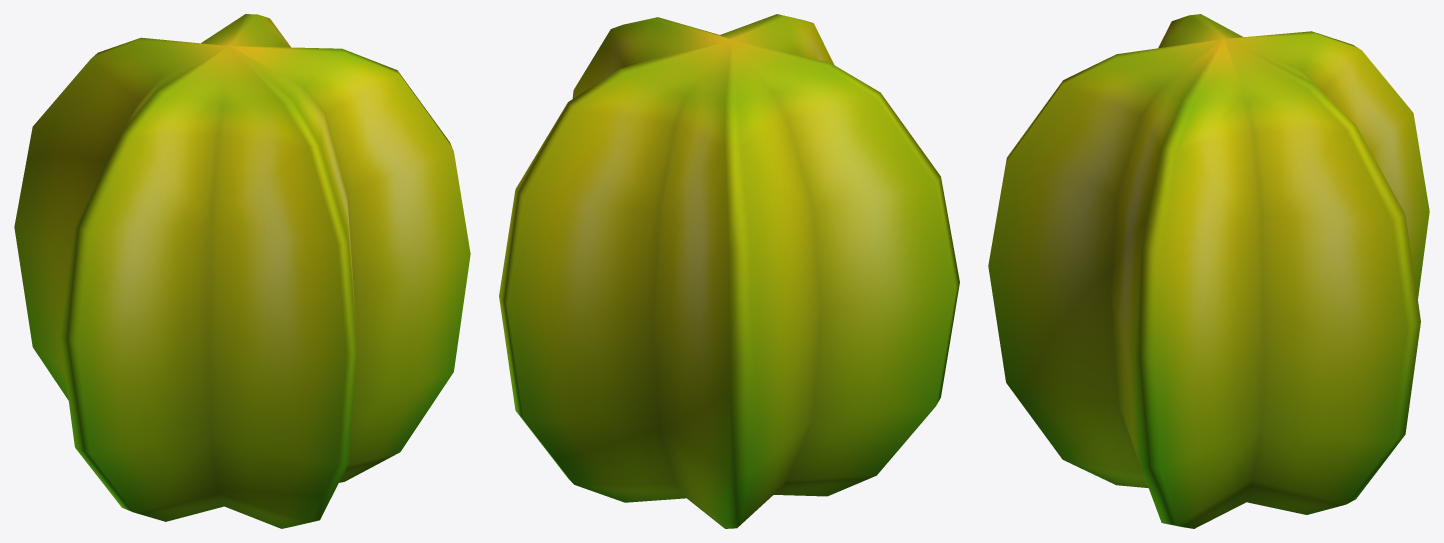
Rendered from StarFruit.fbx.
The picture shows the model from 3 angles, left to right: view 1: azimuth 30°, elevation 25°; view 2: azimuth 150°, elevation 25°; view 3: azimuth 270°, elevation 25°; orthographic projection.
Parts seen in each view (by area): view 1: Starfruit; view 2: Starfruit; view 3: Starfruit.
Part boxes in pixels (box(x1,y1,x2,y2)): Starfruit: box(14, 14, 470, 528); Starfruit: box(499, 14, 959, 528); Starfruit: box(988, 14, 1429, 528).
Bounding box in the file's own units: 43.64 × 47.26 × 41.95.
